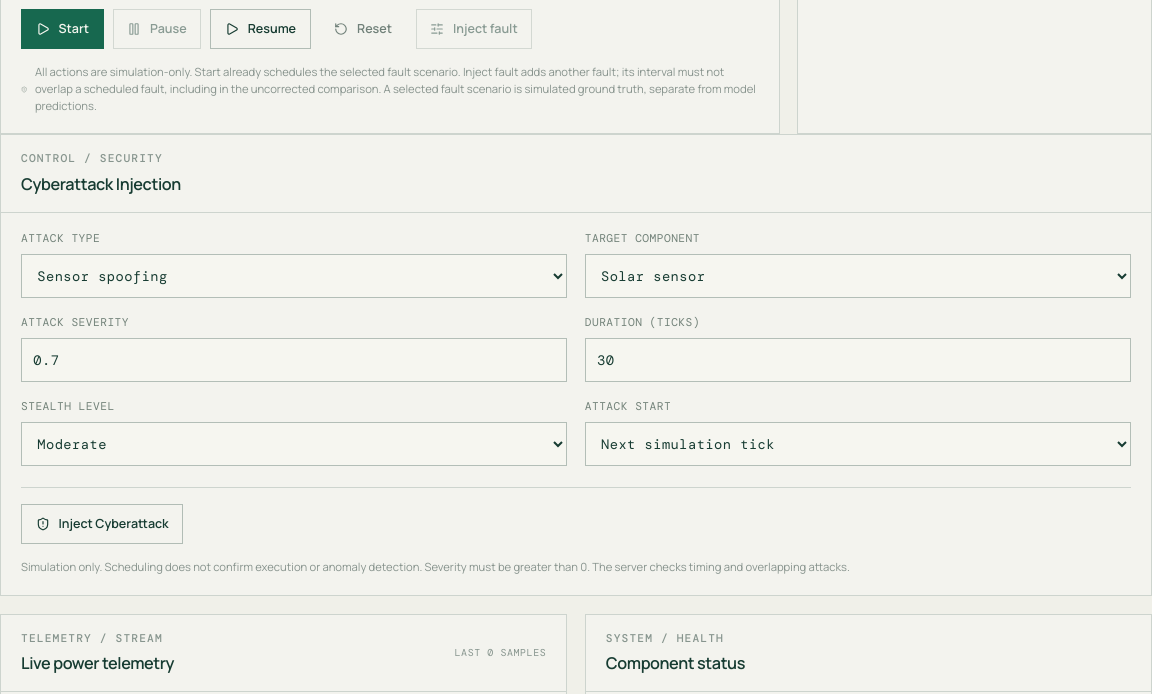
Test case: Live Simulation cyberattack controls › rejects invalid Attack duration: 0 before a network request
The width and height of the screenshot is (1152, 694).
(page scrolled)
Replace the text in the number field named "Attack duration" with "0" at (858, 360), box [585,338,1131,382]
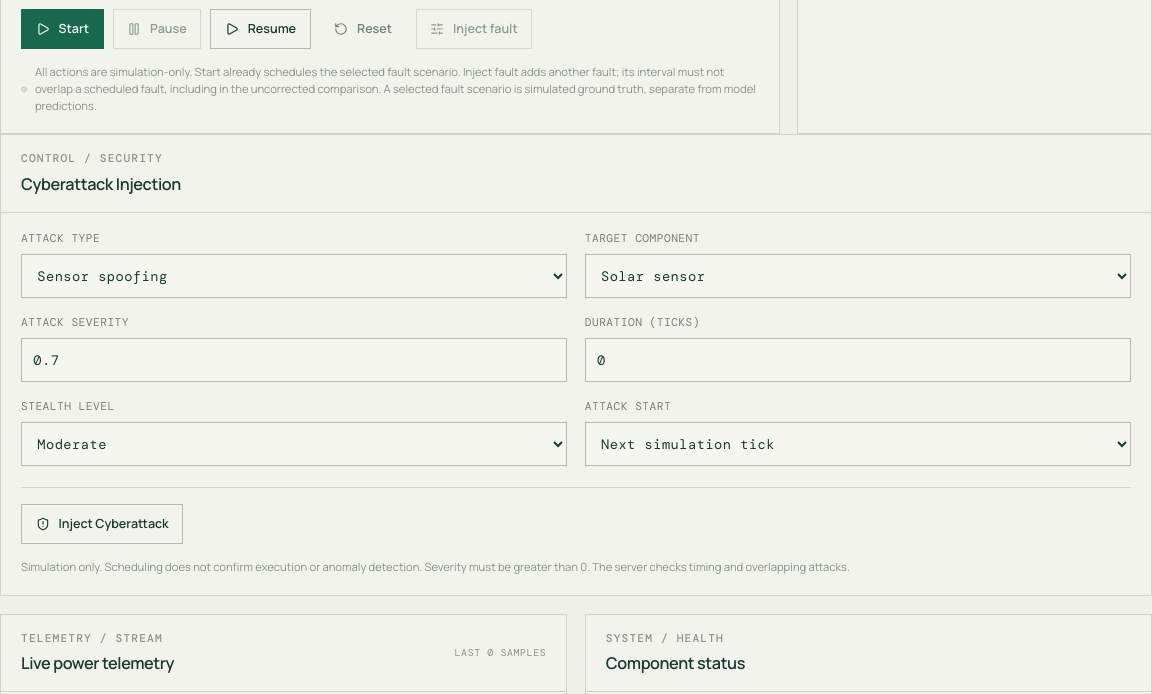
Click the button "Inject Cyberattack" at (102, 524), box [21,504,183,544]
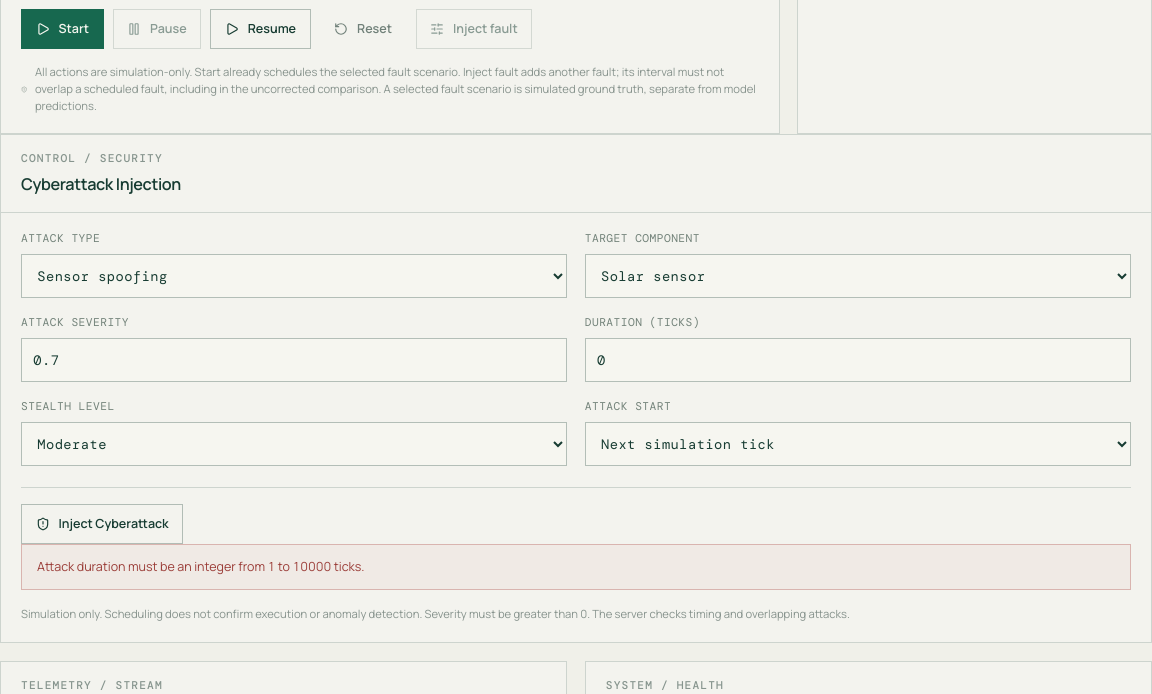
Check: the message "Attack duration must be an integer from 1 to 10000 ticks." is shown, box [21,544,1131,590]
